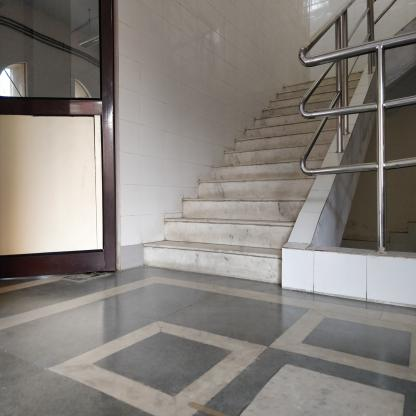stairs: (197, 158, 284, 288)
